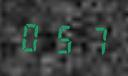five: (49, 19, 78, 56)
seven: (79, 20, 108, 58)
zero: (18, 17, 47, 55)
